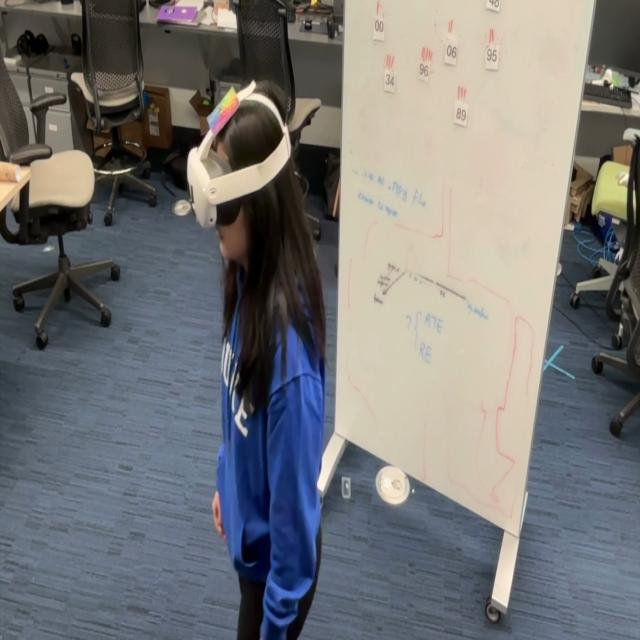Headset: (186, 87, 292, 229)
Marker: (208, 92, 240, 141)
